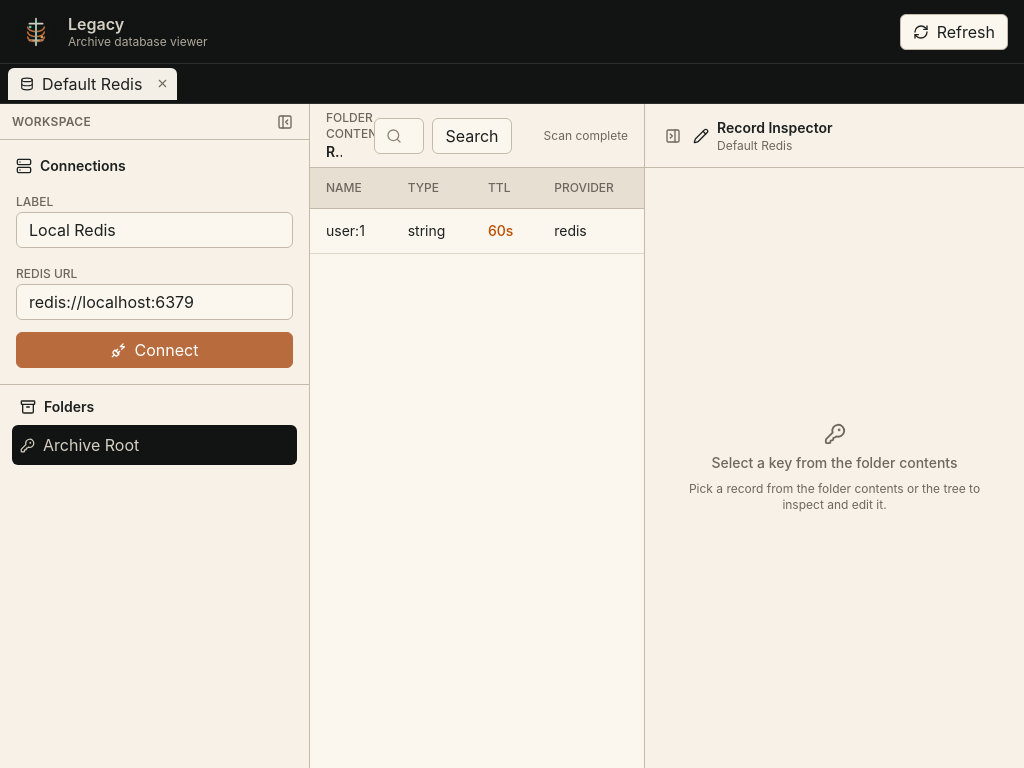
Test case: DatabaseWorkbench › treats a NotFound mutation as a stale key instead of a global error
Click the button with aria-label "inspect user:1".
click(351, 231)  # box [310,209,392,253]
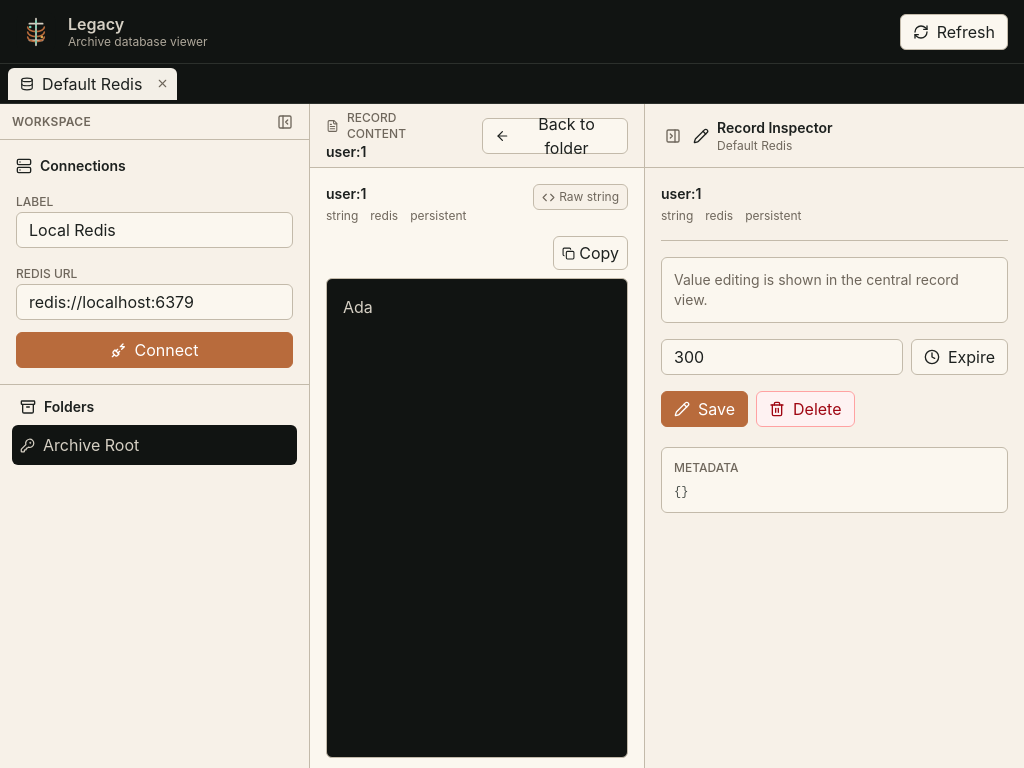
Now the text box showing "Ada" is shown, box [326,278,628,758]
Click the button "Delete".
click(805, 409)  # box [756,391,854,427]
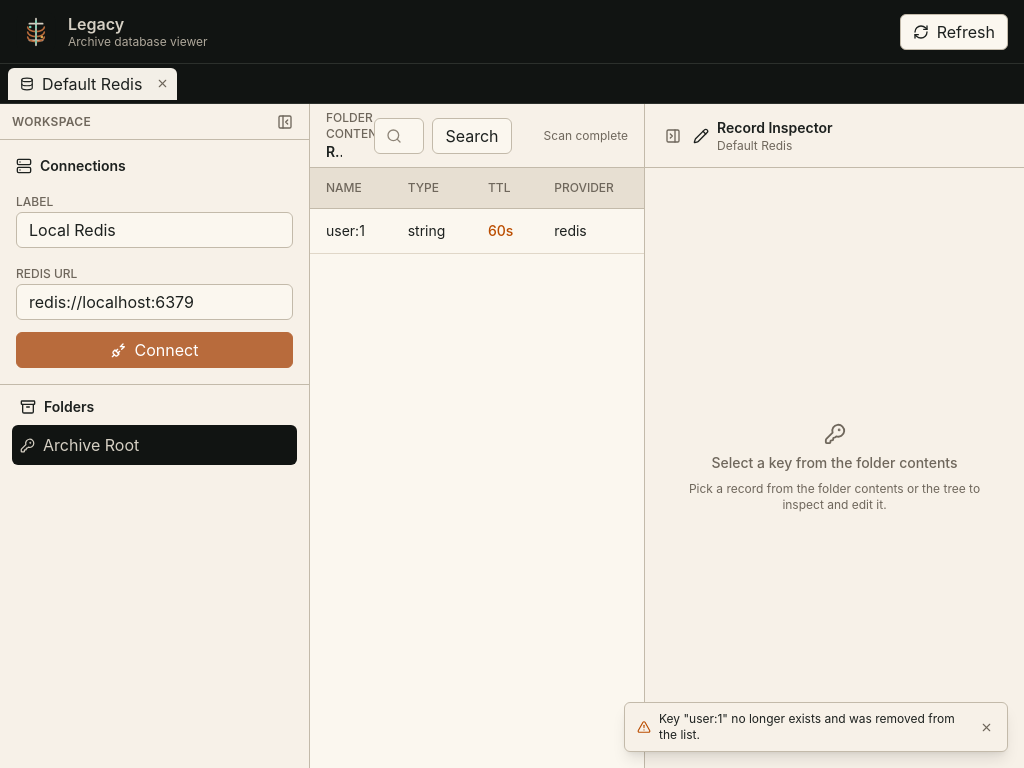
Now the text "Key \"user:1\" no longer exists and was removed from the list." is shown, box [659,711,970,743]
Now the text showing "Ada" is gone
